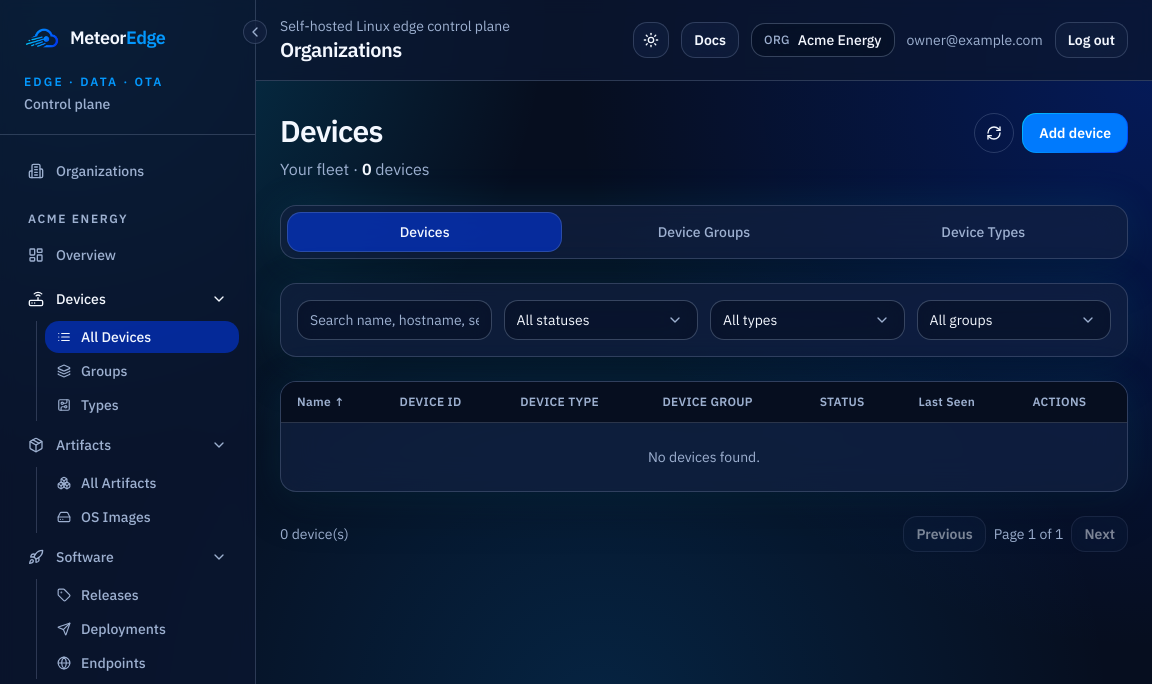
Test: Navigation › shows the organization menu with devices sub-pages
expect the text "Acme Energy" below "Edge · Data · OTA" is shown: met, box [28,211,128,226]
expect the link "Overview" is shown: met, box [28,246,116,264]
Step 1. Click the button "Devices" → (128, 299), box [16,279,239,319]
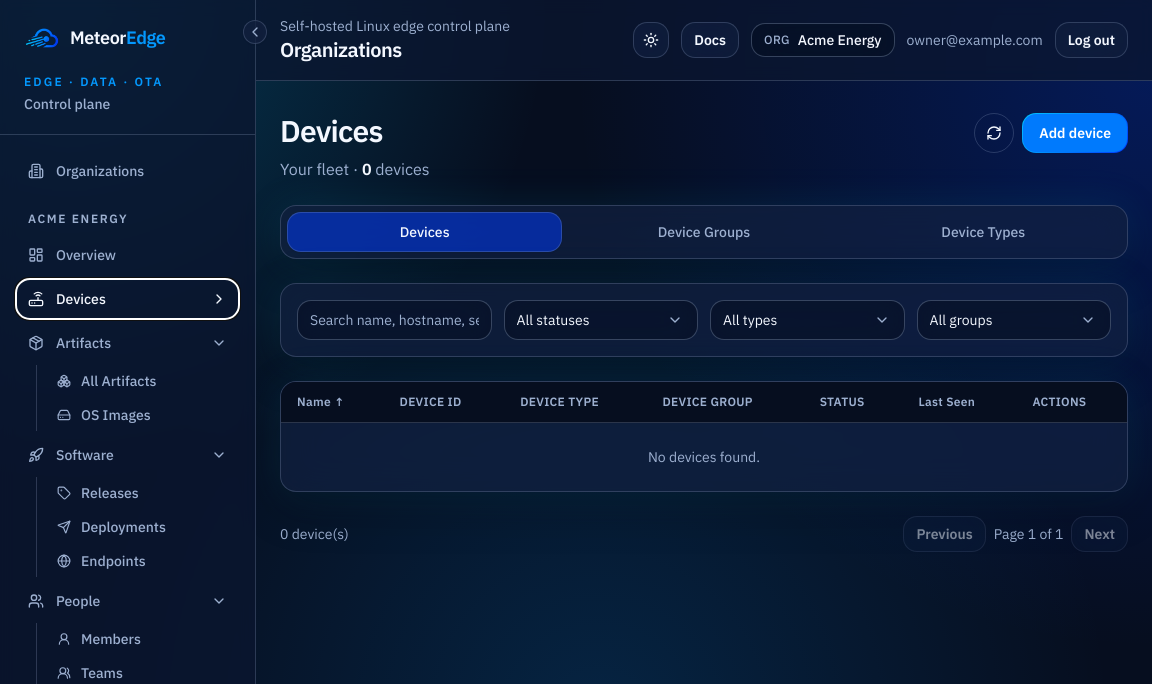
expect the button "People" is shown: met, box [16,581,239,621]
expect the button "Devices" is collapsed: met, box [16,279,239,319]
